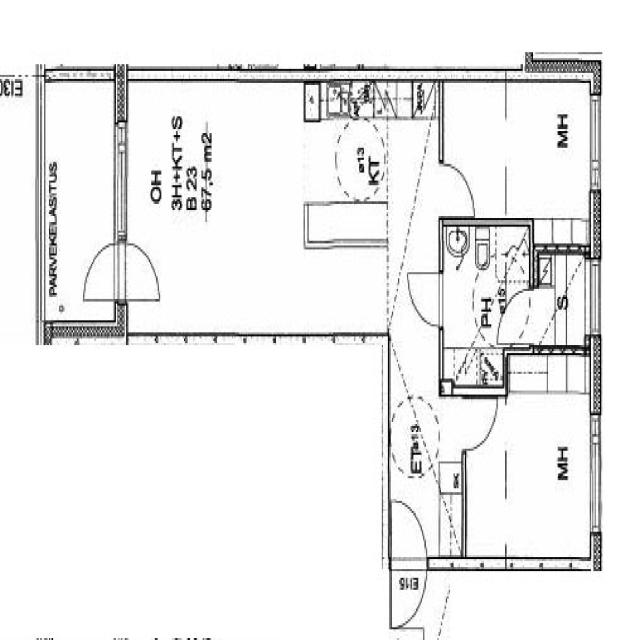door: (389, 499, 429, 623), (406, 269, 445, 330), (124, 241, 162, 303), (83, 240, 118, 302), (441, 158, 477, 218), (464, 393, 498, 454), (500, 288, 532, 344)
window: (110, 118, 130, 241), (585, 422, 606, 539), (586, 92, 604, 188), (586, 256, 602, 340)
zone: (122, 79, 302, 334), (302, 87, 428, 247), (44, 76, 118, 323), (505, 367, 595, 567), (506, 78, 595, 240), (441, 220, 532, 363), (441, 80, 509, 218), (389, 501, 427, 622), (551, 252, 588, 349), (82, 242, 118, 303), (500, 288, 532, 347)
